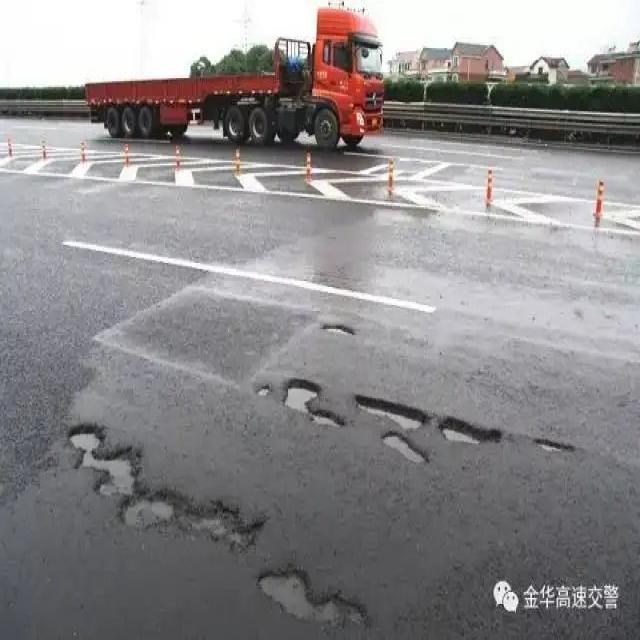Pothole: (67, 421, 263, 554), (251, 565, 371, 632), (283, 376, 342, 434), (356, 394, 429, 431), (439, 418, 502, 448), (374, 432, 428, 466), (320, 318, 358, 342), (525, 437, 572, 452), (255, 380, 270, 400)
